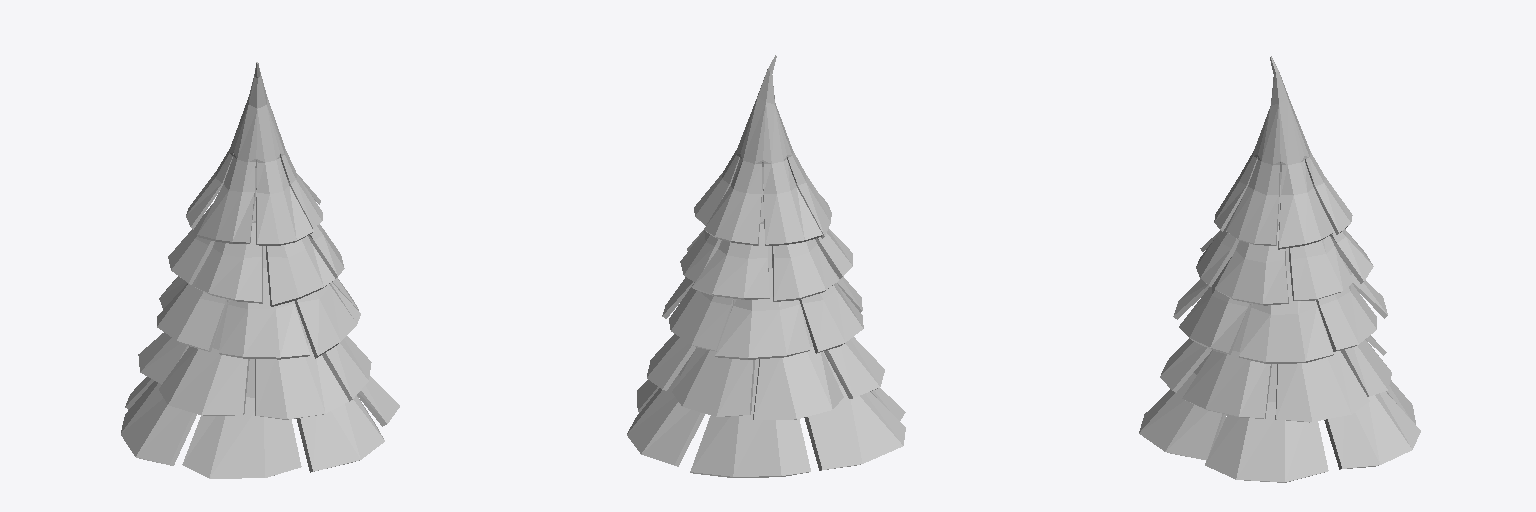
The model's file is Tree.obj.
3 views of the same model, side by side, from view 1: azimuth 30°, elevation 25°; view 2: azimuth 150°, elevation 25°; view 3: azimuth 270°, elevation 25° (orthographic).
Visible parts, largest first — view 1: Object_2; view 2: Object_2; view 3: Object_2.
Part boxes in pixels (bbox=[...]): Object_2: bbox=[121, 62, 399, 478]; Object_2: bbox=[627, 55, 905, 477]; Object_2: bbox=[1139, 56, 1420, 482].
Size of the model in its own units: 6.67 by 9.88 by 6.37.